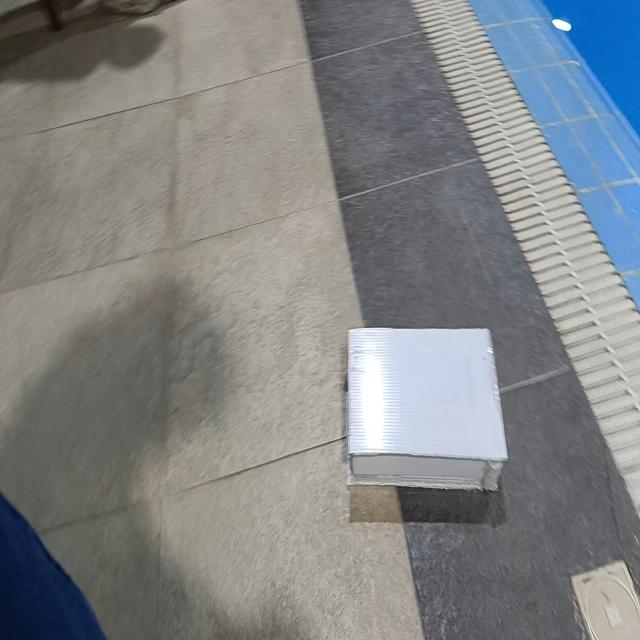Cuboid: (346, 324, 508, 493)
